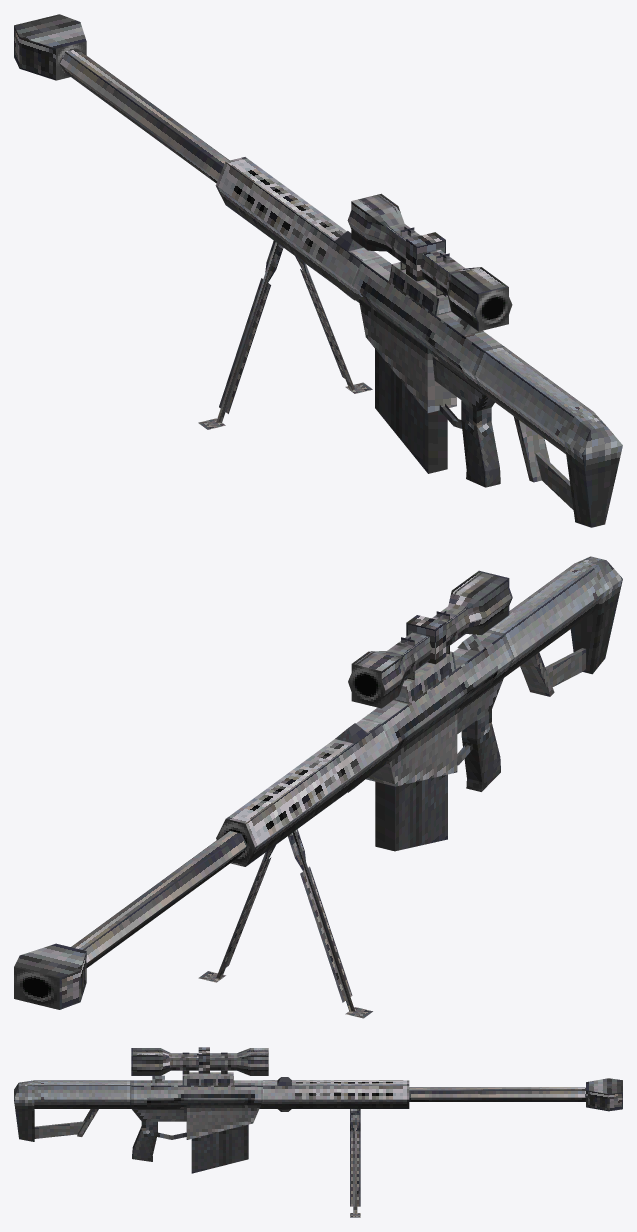
Rendered from recovered_gun_barretm82a1_63dcb211.glb.
The picture shows the model from 3 angles, top to bottom: view 1: azimuth 30°, elevation 25°; view 2: azimuth 150°, elevation 25°; view 3: azimuth 270°, elevation 25°; orthographic projection. The views are drawn at different scales.
Visible parts, largest first — view 1: Gun_4585a4b8e734, Gun_379f7b5fa02f; view 2: Gun_4585a4b8e734, Gun_379f7b5fa02f; view 3: Gun_4585a4b8e734.
Boxes of the visible parts, <box> form: Gun_4585a4b8e734: <box>14,14,622,527</box>; Gun_379f7b5fa02f: <box>56,41,512,331</box>; Gun_4585a4b8e734: <box>14,556,622,1018</box>; Gun_379f7b5fa02f: <box>14,664,385,1009</box>; Gun_4585a4b8e734: <box>14,1047,622,1217</box>.
Bounding box in the file's own units: 0.2341 × 0.3646 × 1.39.
2 materials, 2 textured.
